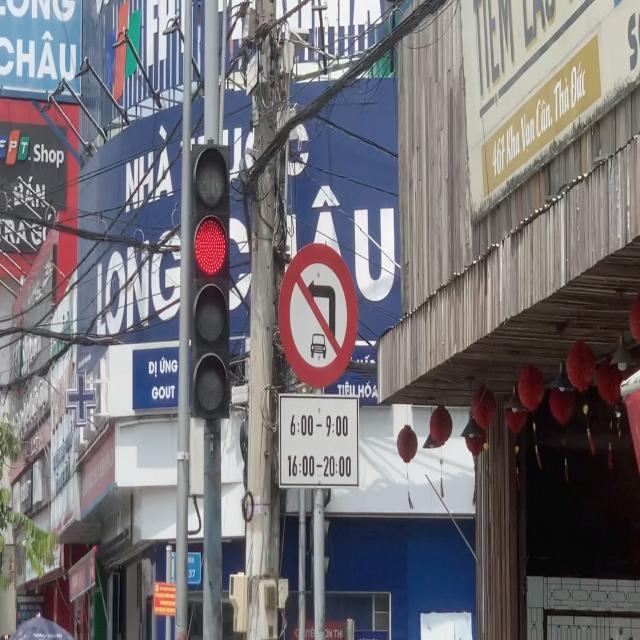Cam re trai: (277, 242, 359, 389)
